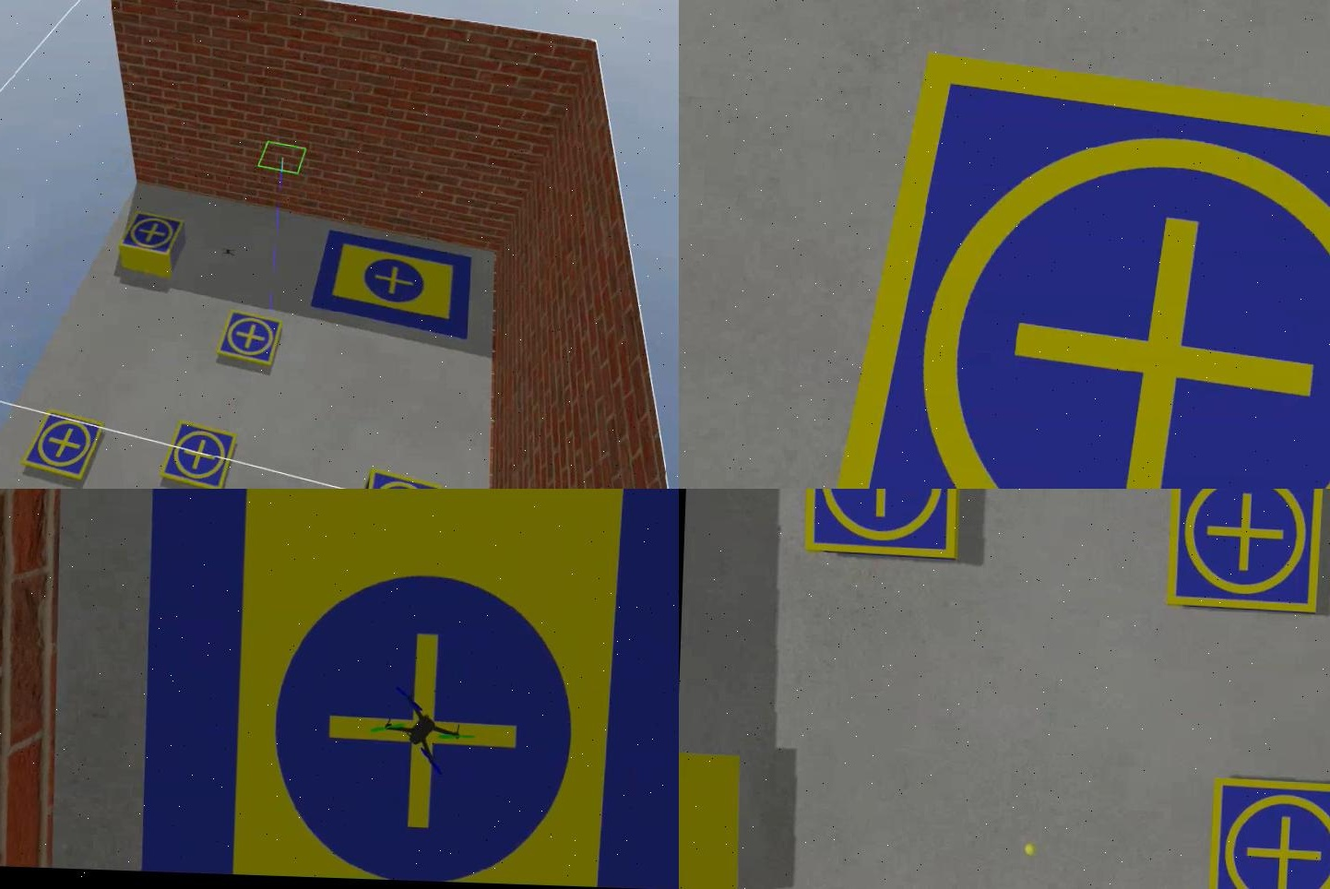large_base: (141, 490, 678, 889), (306, 231, 468, 339)
small_base: (807, 49, 1328, 490), (1163, 490, 1324, 616), (1203, 776, 1328, 889), (799, 490, 963, 560), (18, 409, 101, 484), (157, 421, 235, 490), (214, 310, 282, 369), (115, 212, 183, 258), (356, 468, 441, 490)
